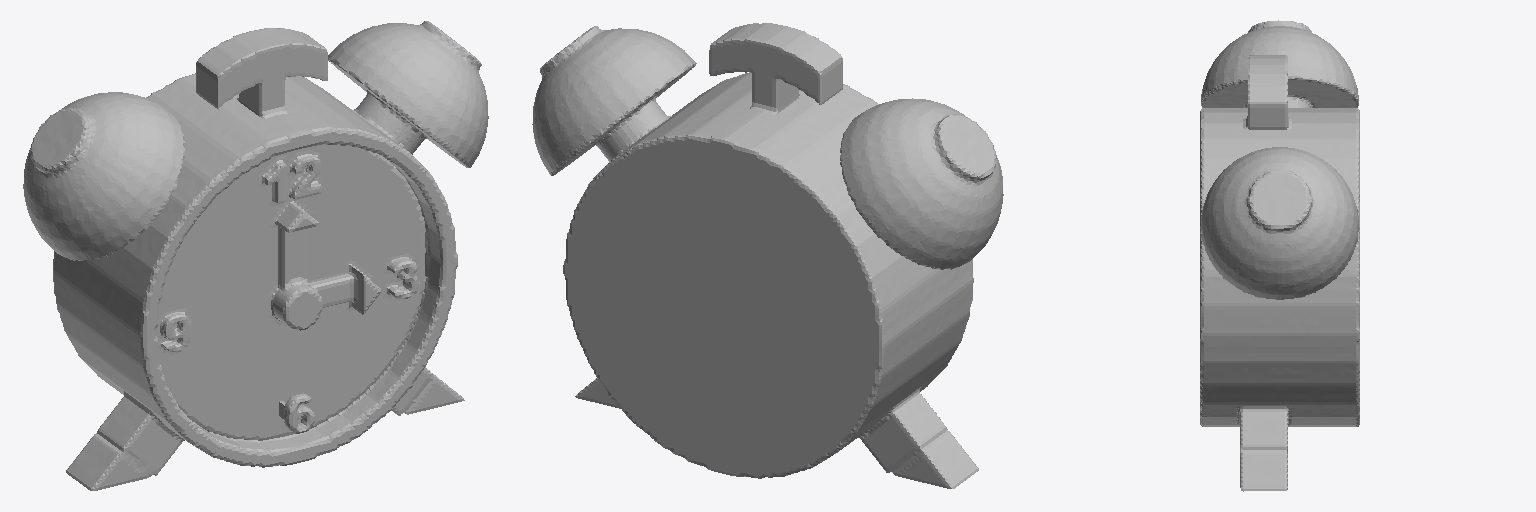
The robot description file, URDF, robot "root":
<robot name="root">
  <link name="link_001">
    <visual>
      <origin xyz="0 0 0" rpy="0 0 0"/>
      <geometry>
        <mesh filename="alarmclock.obj" scale="1.0000E+00 1.0000E+00 1.0000E+00"/>
      </geometry>
      <material name="">
        <color rgba="7.50E-01 7.50E-01 7.50E-01 1"/>
      </material>
    </visual>
    <collision>
      <origin xyz="0 0 0" rpy="0 0 0"/>
      <geometry>
        <mesh filename="alarmclock.obj" scale="1.0000E+00 1.0000E+00 1.0000E+00"/>
      </geometry>
    </collision>
    <inertial>
      <mass value="0.16"/> <!-- 质量：0.1kg -->
    </inertial>
  </link>
</robot>

--- What the picture shows (computed from the rendered views, not written in the file) ---
Views: 3 orthographic renders of the robot side by side, from view 1: azimuth 30°, elevation 25°; view 2: azimuth 150°, elevation 25°; view 3: azimuth 270°, elevation 25°.
Model root with 1 links and 0 joints (none), rooted at link_001, posed every joint at zero.
Links seen in each view (by area): view 1: link_001; view 2: link_001; view 3: link_001.
Link boxes in pixels (left/top/right/bottom): link_001: left=23, top=21, right=488, bottom=490; link_001: left=532, top=23, right=1003, bottom=488; link_001: left=1200, top=20, right=1359, bottom=491.
Size in the robot's own frame: 0.1257 by 0.0451 by 0.1082 metres.
Meshes: 1 distinct files referenced, 1 mesh visuals loaded (1 OBJ).
